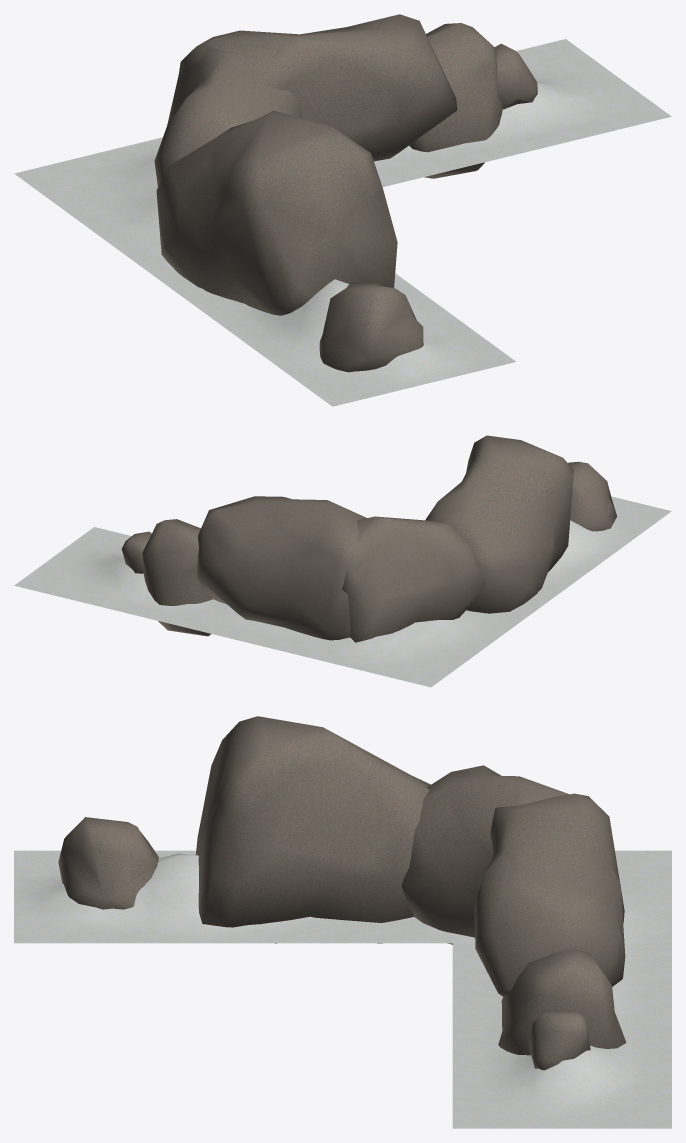
The model's file is bigcorner_1.obj.
The picture shows the model from 3 angles, top to bottom: view 1: azimuth 30°, elevation 25°; view 2: azimuth 150°, elevation 25°; view 3: azimuth 270°, elevation 25°; orthographic projection. The views are drawn at different scales.
Parts seen in each view (by area): view 1: bigcorner_1_Cube.015; view 2: bigcorner_1_Cube.015; view 3: bigcorner_1_Cube.015.
Boxes of the visible parts, <box> form: bigcorner_1_Cube.015: <box>14,14,671,406</box>; bigcorner_1_Cube.015: <box>14,435,671,687</box>; bigcorner_1_Cube.015: <box>14,716,671,1128</box>.
Size of the model in its own units: 1536 by 558 by 1536.
